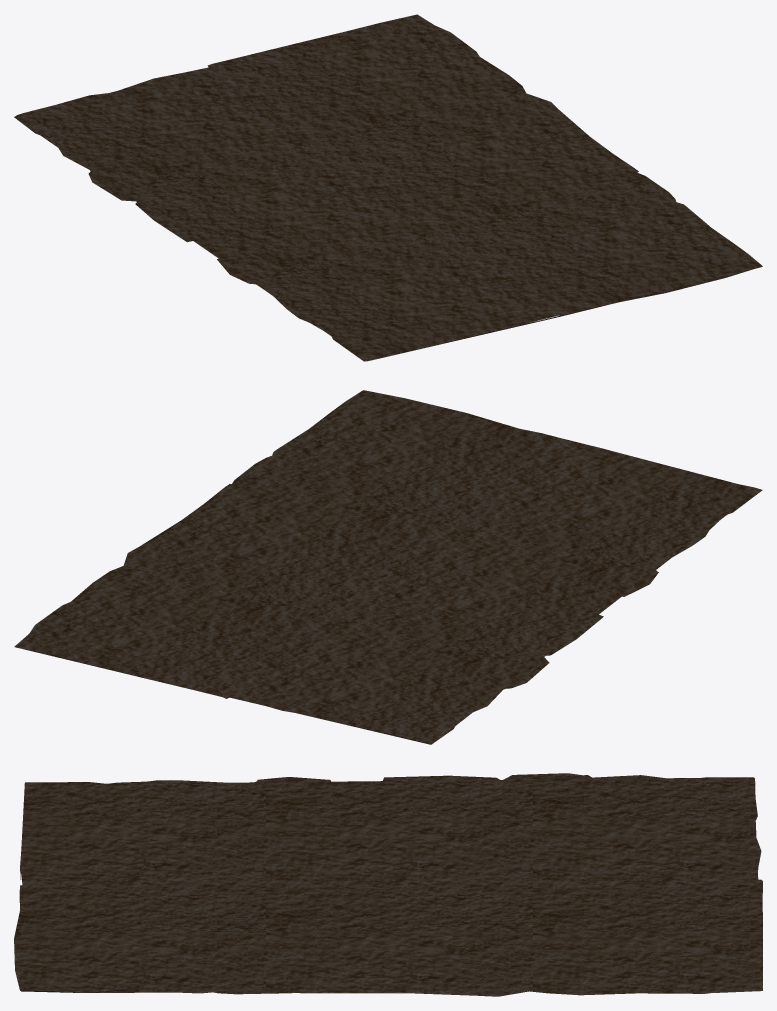
File: cave-floor-flat1.glb
3 views of the same model, one above another, from view 1: azimuth 30°, elevation 25°; view 2: azimuth 150°, elevation 25°; view 3: azimuth 270°, elevation 25° (orthographic). The views are drawn at different scales.
Visible parts, largest first — view 1: Cube.001; view 2: Cube.001; view 3: Cube.001.
Boxes of the visible parts, box(x1,y1,x2,y2) form: Cube.001: box(14, 14, 762, 361); Cube.001: box(14, 390, 762, 744); Cube.001: box(14, 773, 762, 996).
Size of the model in its own units: 8.52 by 0.051 by 12.05.
1 material, 1 textured.
